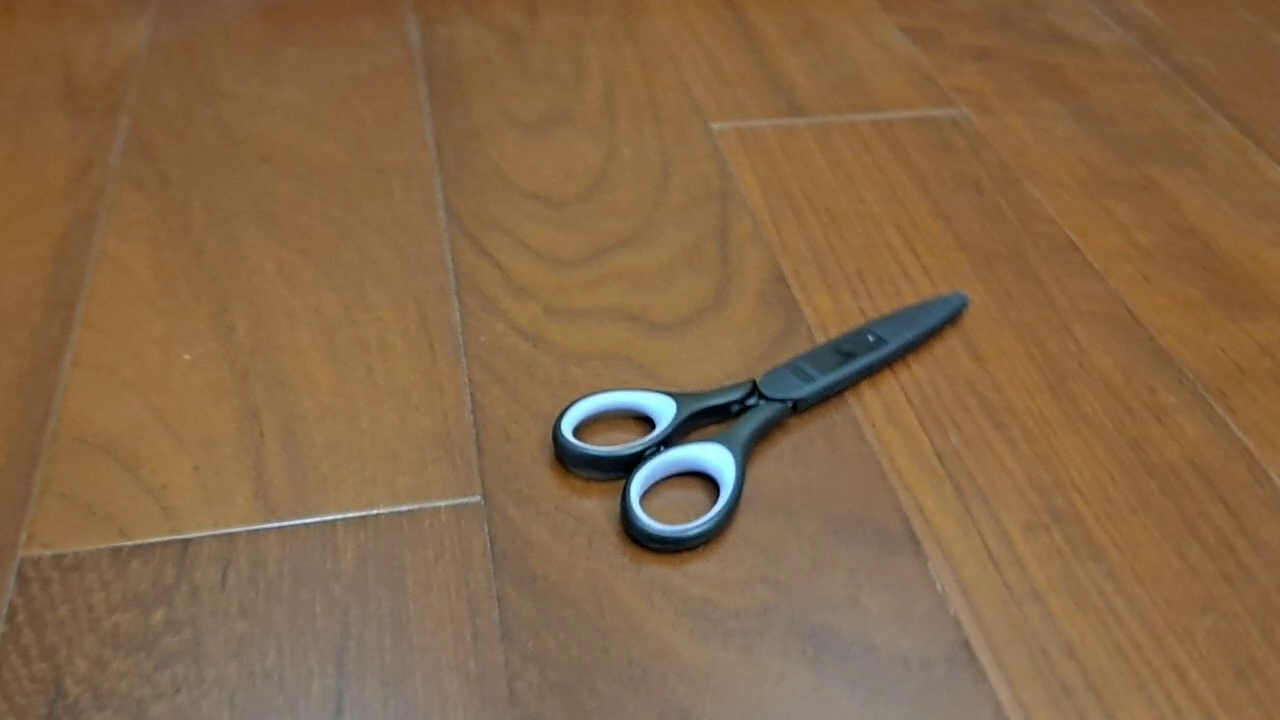scissors: (551, 288, 973, 556)
